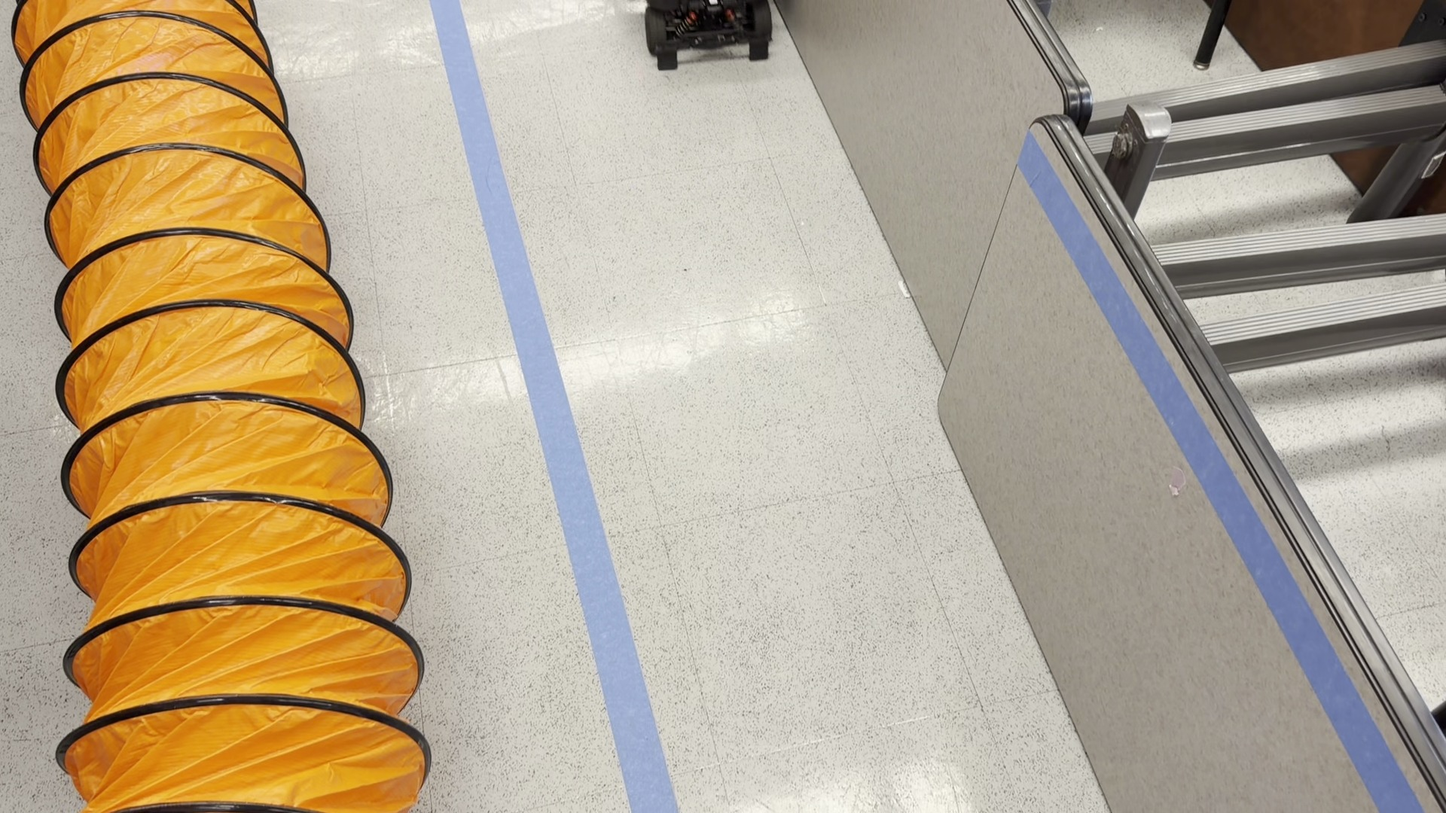racecar: (644, 0, 772, 70)
